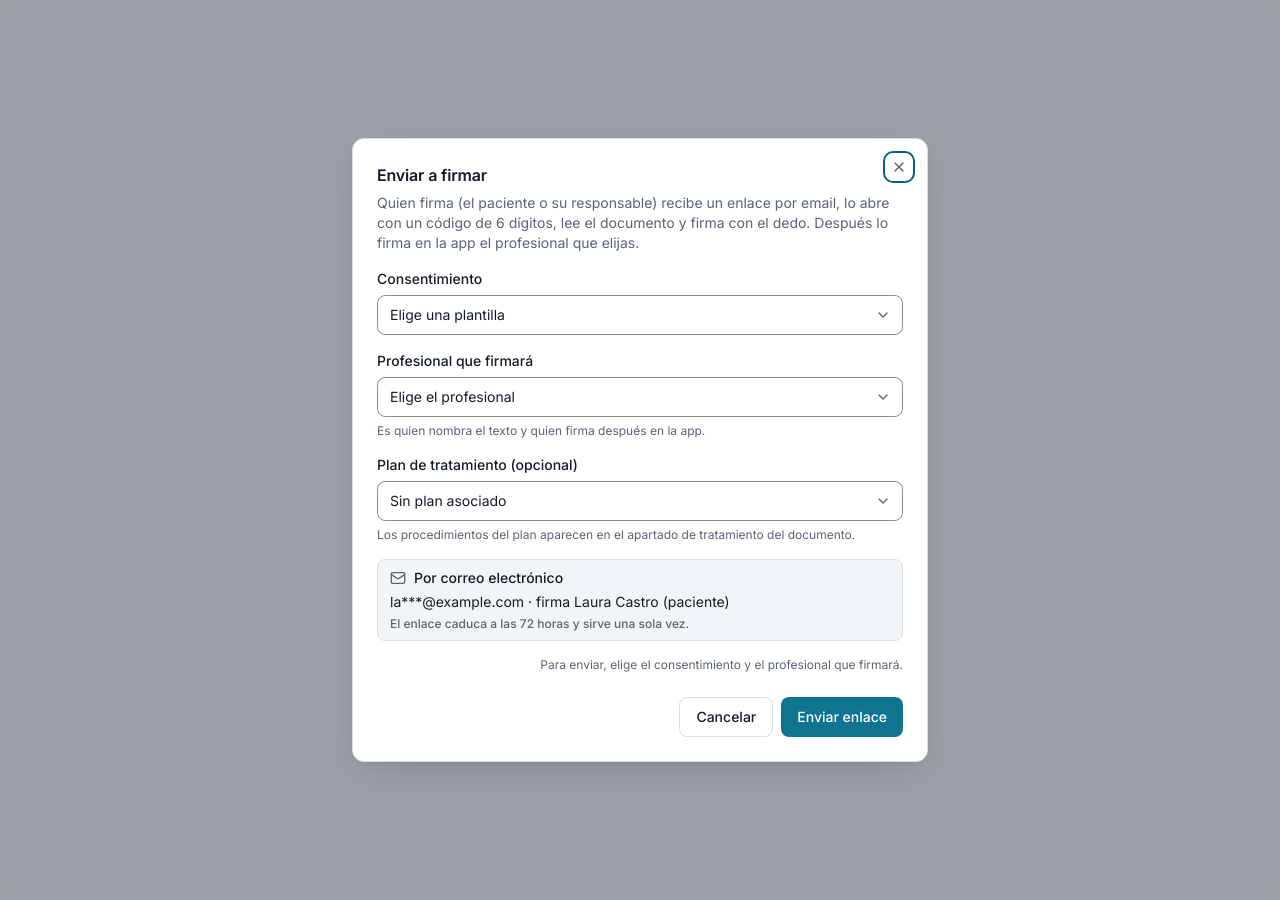
Test: SendToSignModal (DX-243) › sin elegir plantilla ni profesional, «Enviar enlace» dice qué falta junto a cada campo y no envía
This screenshot has width=1280, height=900.
Check: the text "Para enviar, elige el consentimiento y el profesional que firmará." is shown, box [540,657,903,672]
Click the button "Enviar enlace".
click(842, 717)  # box [781,697,903,737]
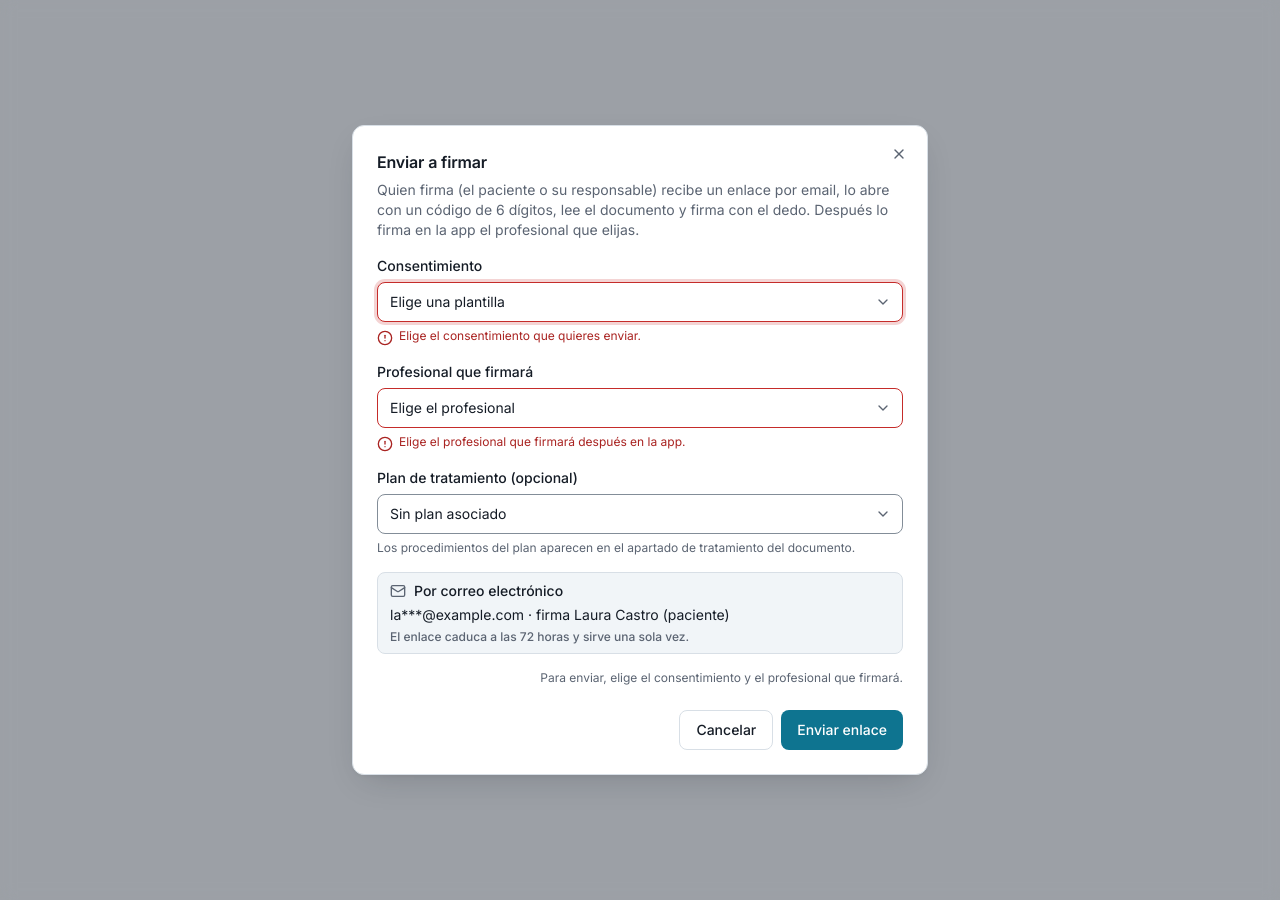
Check: the text "Elige el consentimiento que quieres enviar." is shown, box [399,328,641,344]
Check: the text "Elige el profesional que firmará después en la app." is shown, box [399,434,686,450]
# Al elegirlo, el aviso de ese campo se va.
Select "Consentimiento informado — Exodoncia" in the dropdown labelled "Consentimiento" at (640, 302), box [377,282,903,322]
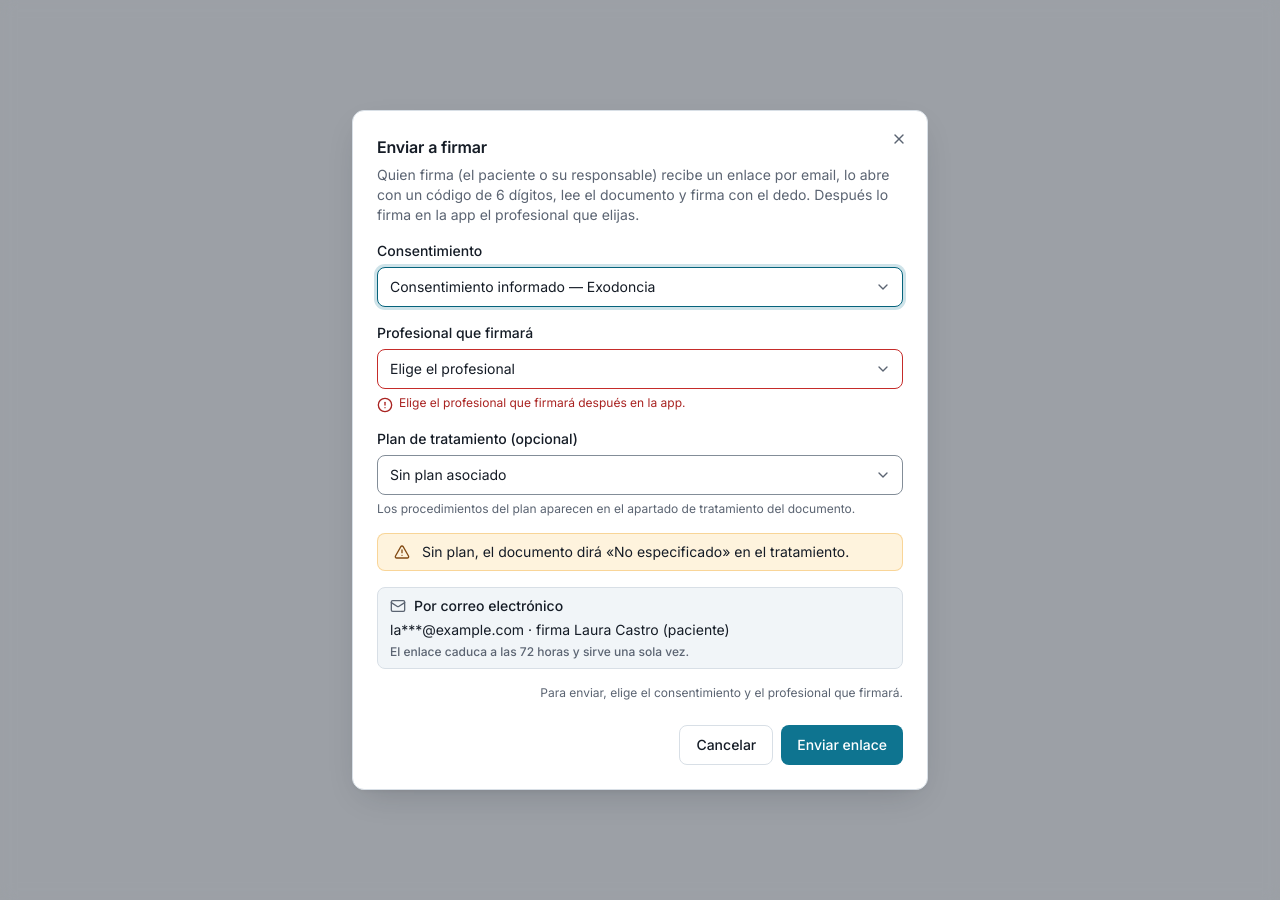
Check: the text "Elige el consentimiento que quieres enviar." is gone
